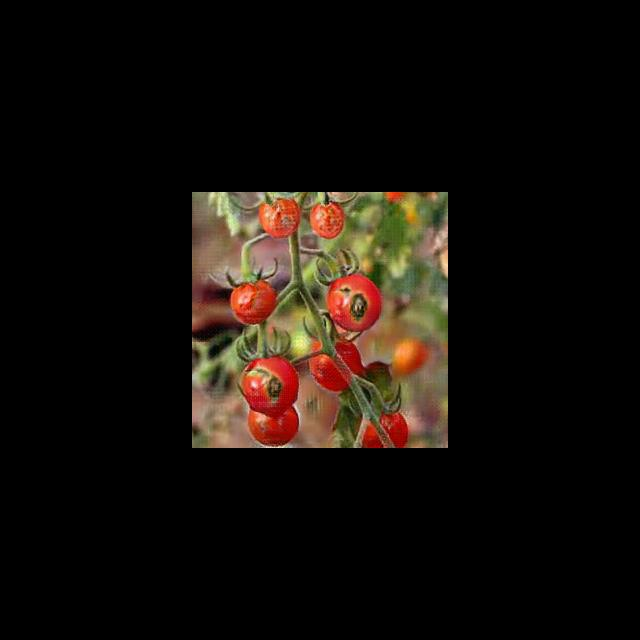tomato: (327, 274, 381, 333), (242, 356, 301, 409), (228, 282, 278, 327), (256, 200, 302, 238), (310, 203, 345, 240)
